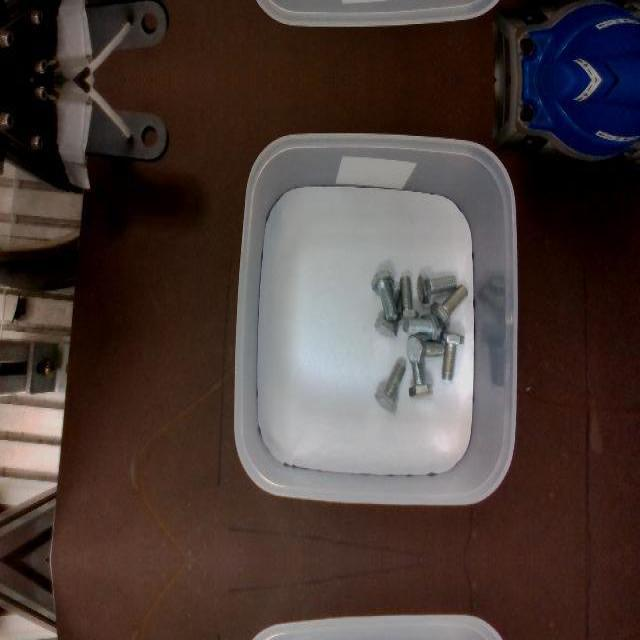screw: (375, 360, 406, 410), (371, 271, 397, 321), (440, 330, 465, 380), (416, 273, 456, 303), (405, 332, 444, 362), (403, 313, 442, 341)
